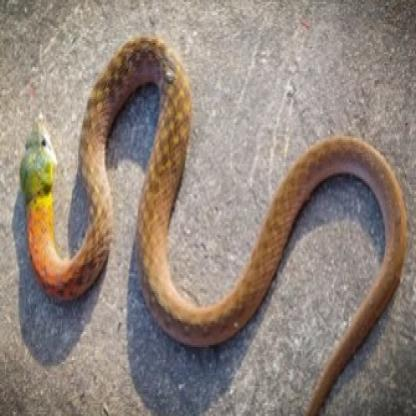snakes: (17, 33, 415, 416)
